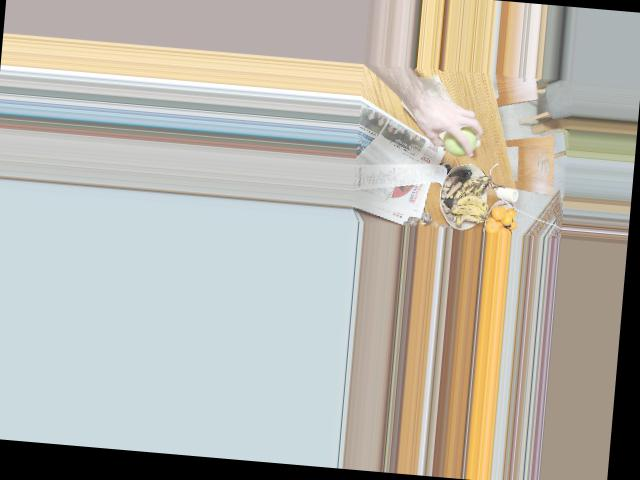apple: (439, 121, 479, 156)
